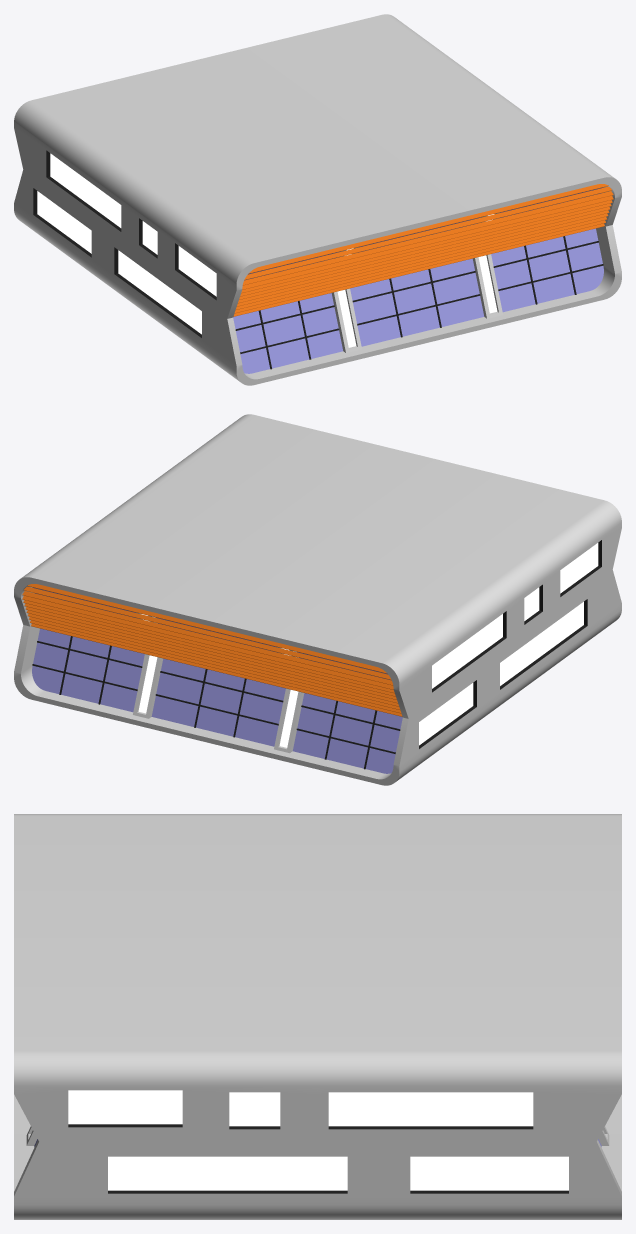
Rendered from SM_B_i1_floor2.fbx.
3 views of the same model, one above another, from view 1: azimuth 30°, elevation 25°; view 2: azimuth 150°, elevation 25°; view 3: azimuth 270°, elevation 25° (orthographic). The views are drawn at different scales.
Visible parts, largest first — view 1: Bil1_floor2.fbx; view 2: Bil1_floor2.fbx; view 3: Bil1_floor2.fbx.
Boxes of the visible parts, box(x1,y1,x2,y2) form: Bil1_floor2.fbx: box(14, 14, 621, 385); Bil1_floor2.fbx: box(14, 414, 621, 785); Bil1_floor2.fbx: box(14, 814, 621, 1219).
Size of the model in its own units: 2000 by 605 by 2000.
